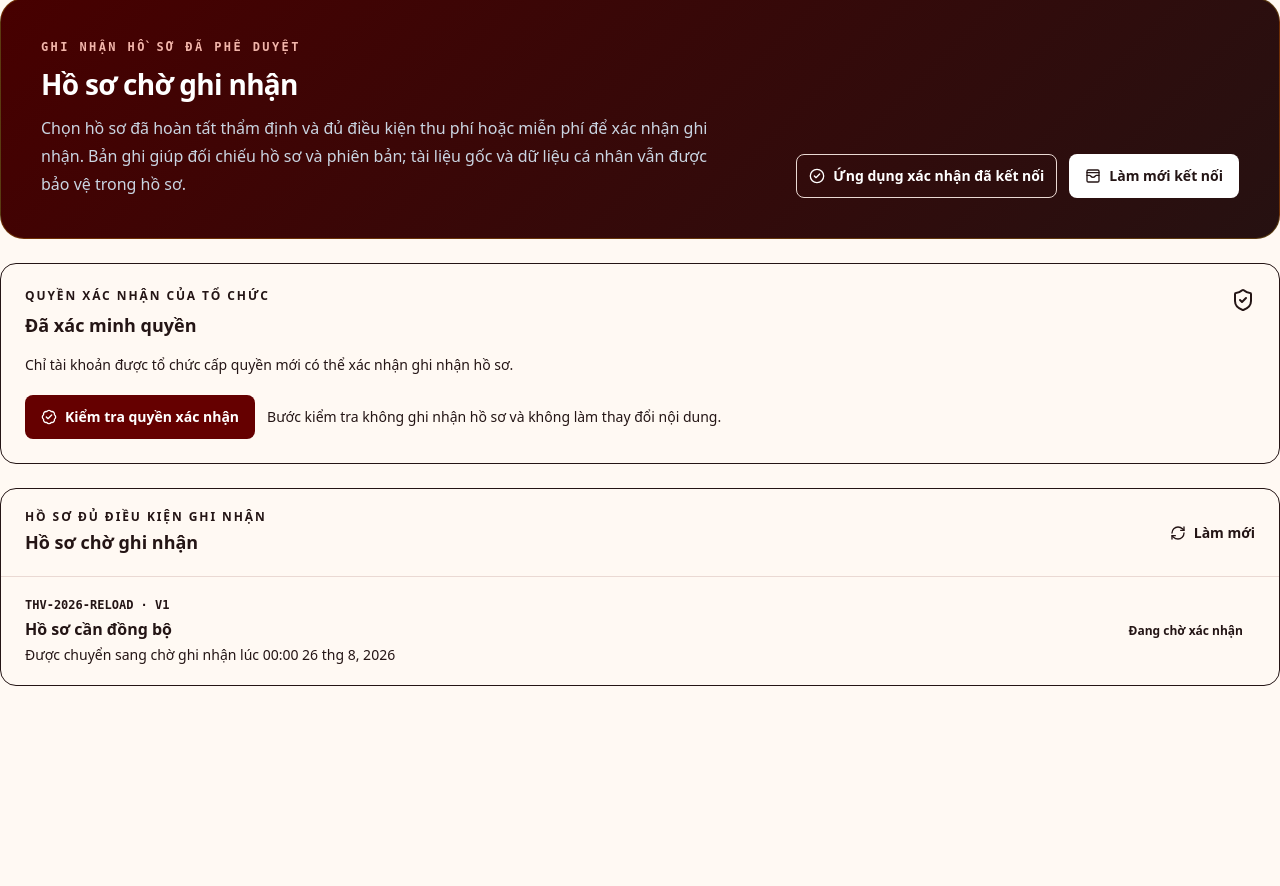
Test: BlockchainSigningWorkspace › resubmits a wallet hash saved before a page reload without asking MetaMask again
Click the button "Hồ sơ cần đồng bộ" at (79, 605), box [1, 577, 1279, 685]
(page scrolled)
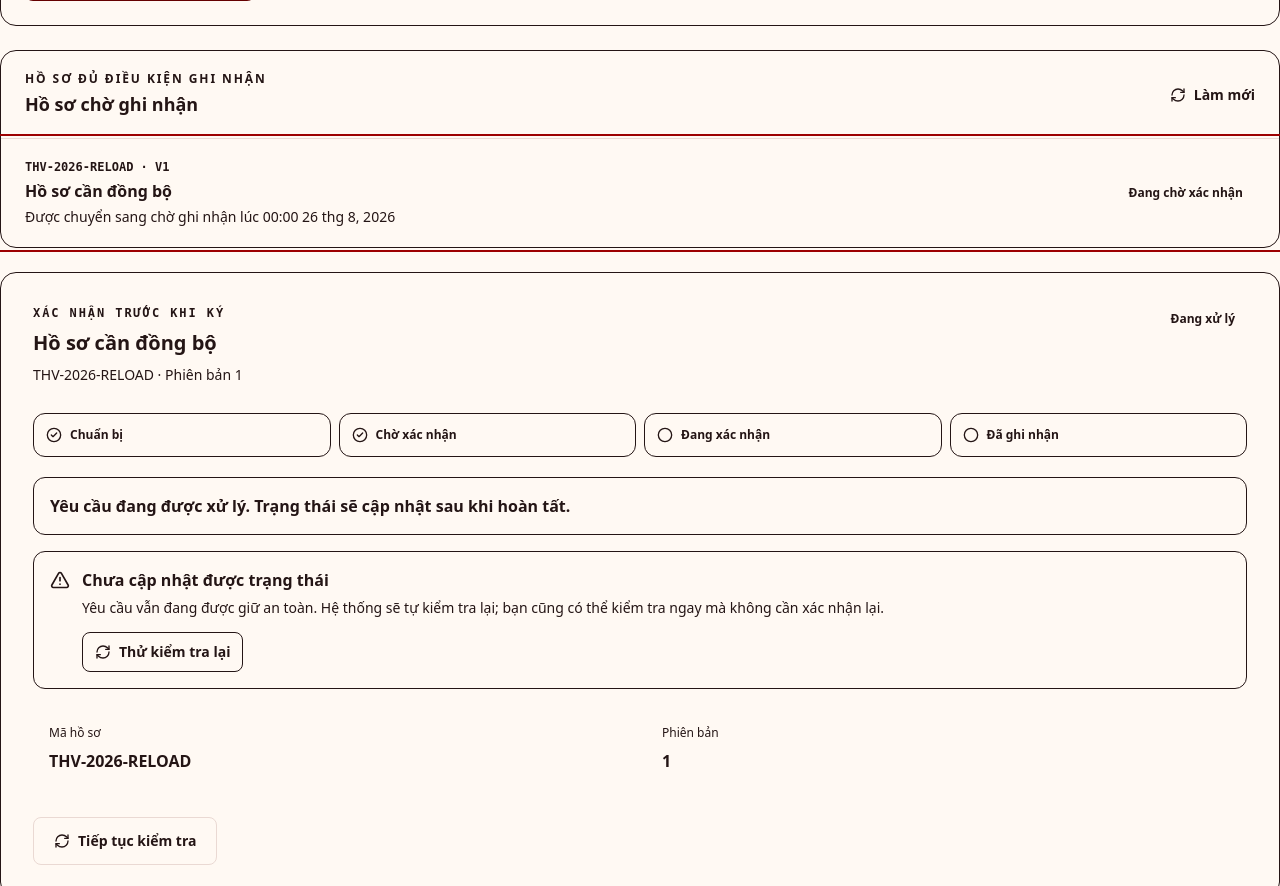
Click the button "Tiếp tục kiểm tra" at (125, 841), box [33, 817, 218, 865]
(page scrolled)
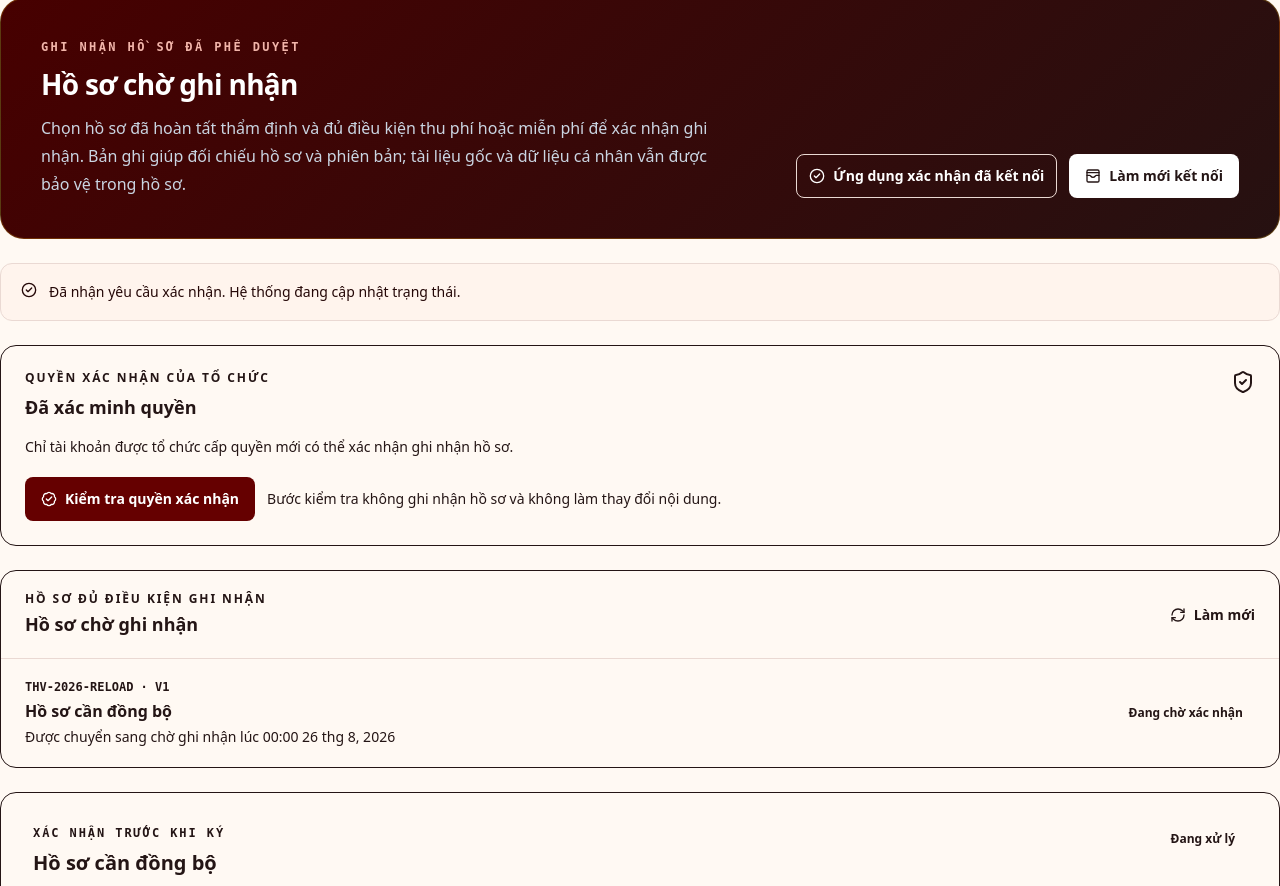
Now the text "Đã nhận yêu cầu xác nhận. Hệ thống đang cập nhật trạng thái." is shown, box [49, 280, 460, 304]
